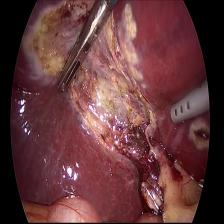Grasper: (47, 5, 115, 94)
Irrigator: (169, 87, 202, 130)
